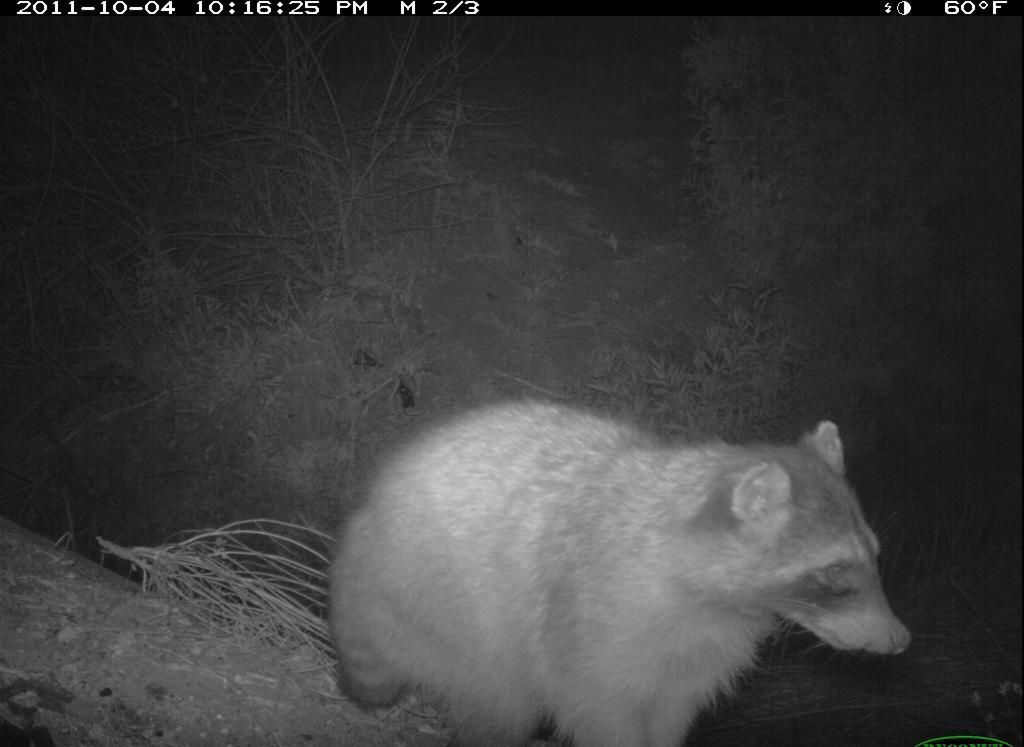raccoon: (333, 400, 916, 747)
